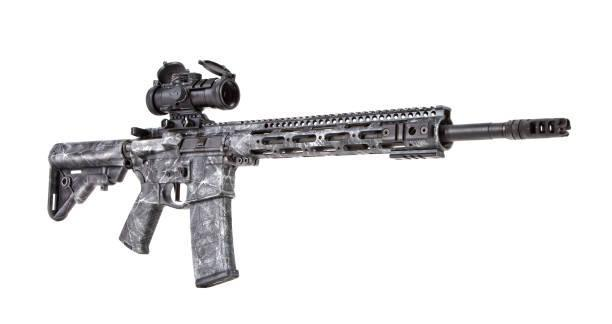larga: (47, 60, 572, 289)
